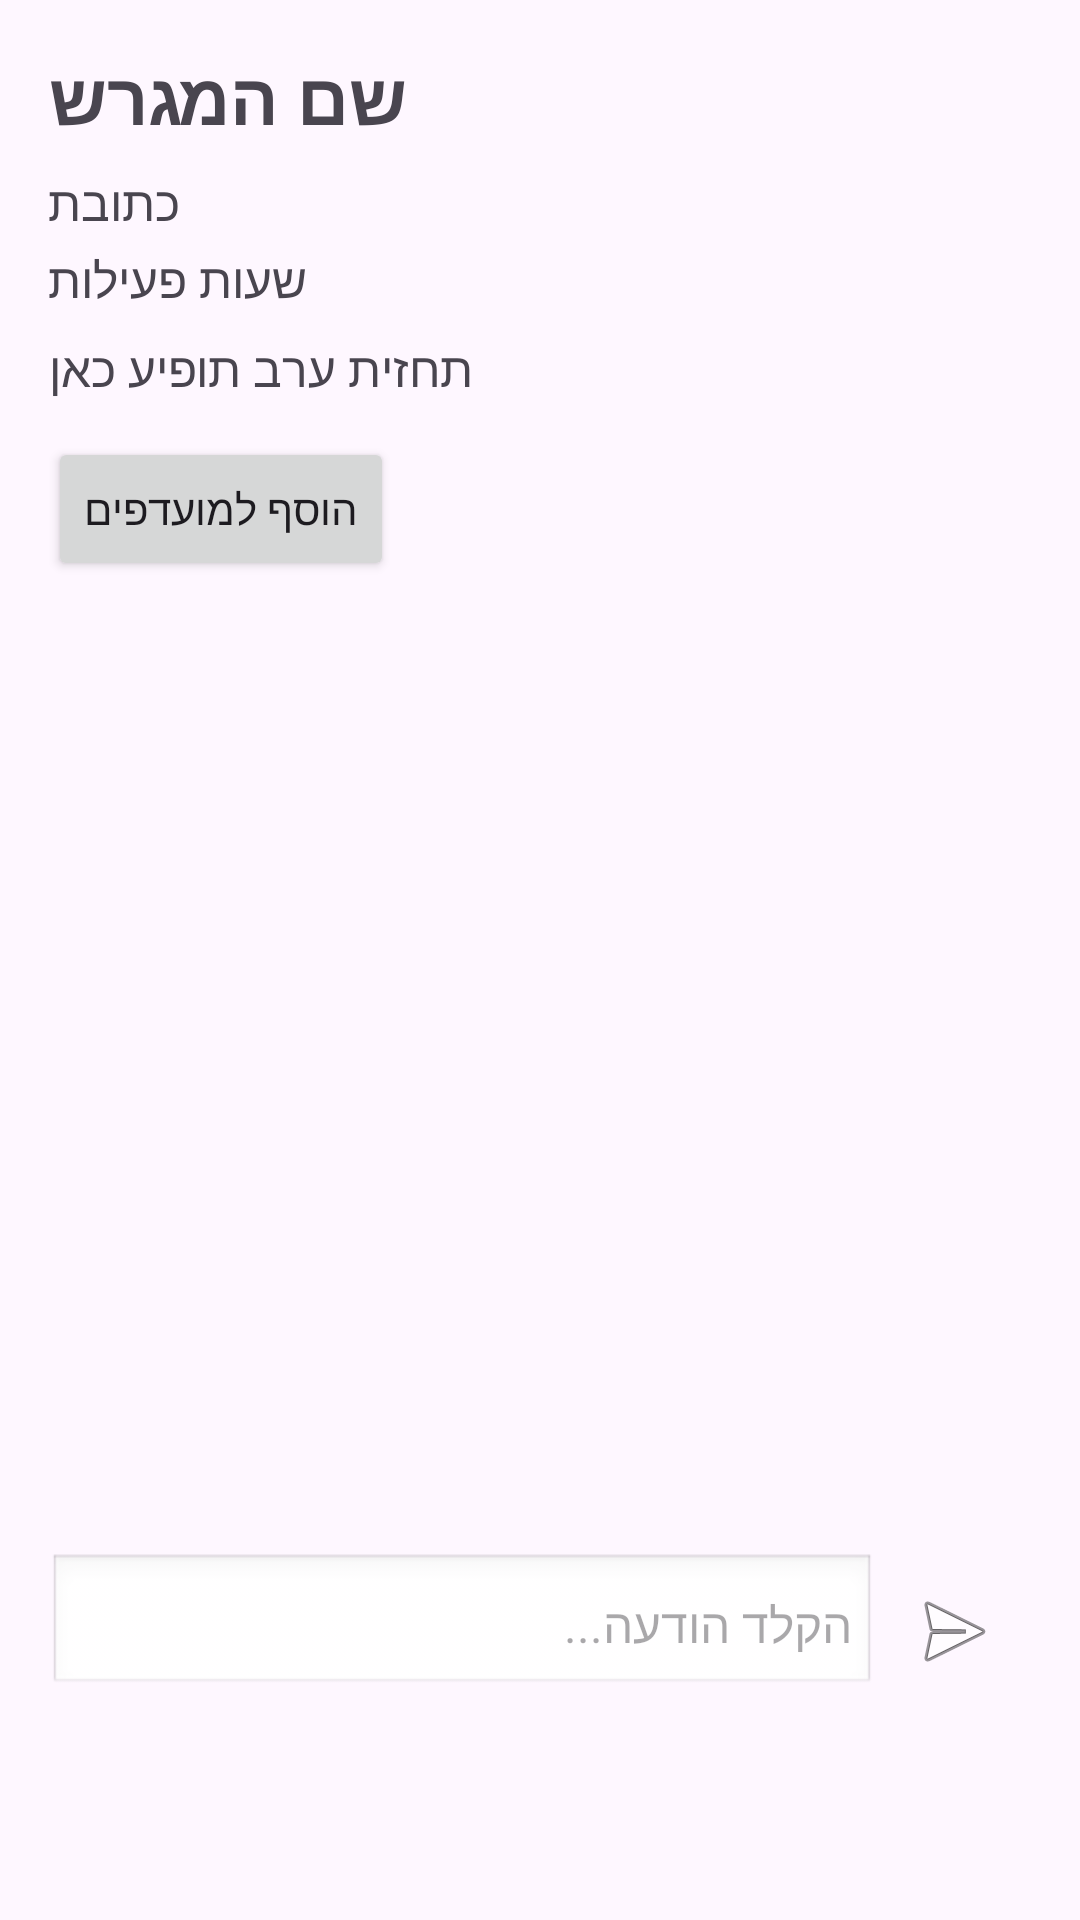

Point at icon controls on the screen. Image size 1080 × 1920, points as point (x, y).
שלח: point (955, 1631)
